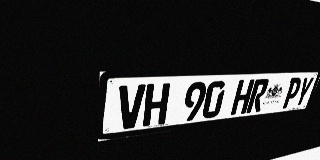0: (201, 81, 227, 119)
9: (181, 81, 208, 122)
H: (142, 83, 171, 127), (230, 79, 255, 115)
P: (281, 77, 303, 109)
R: (246, 79, 270, 113)
V: (117, 84, 146, 130)
Y: (293, 77, 315, 107)
